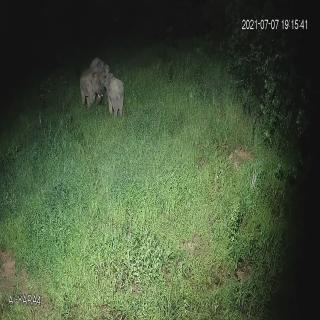Elephant: (104, 72, 128, 127), (78, 66, 106, 110)
